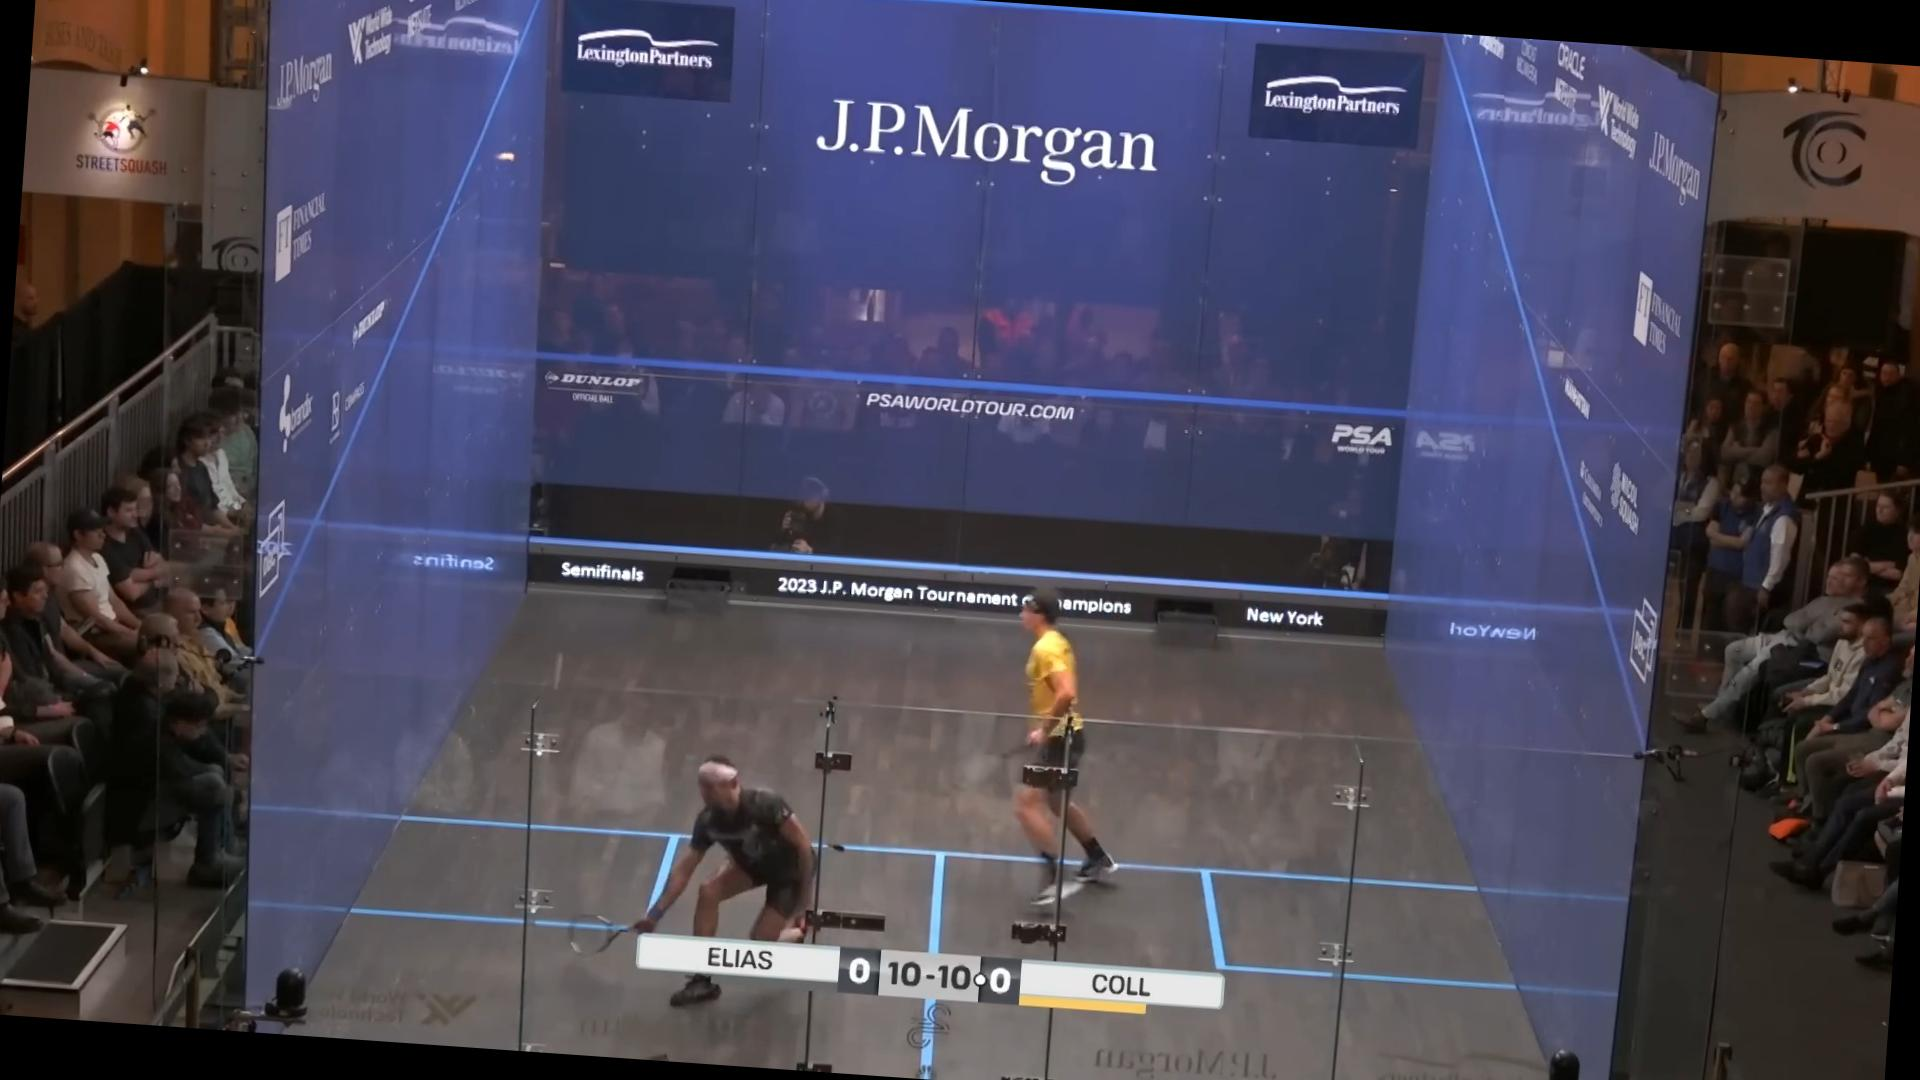Racket: (556, 898, 640, 967)
